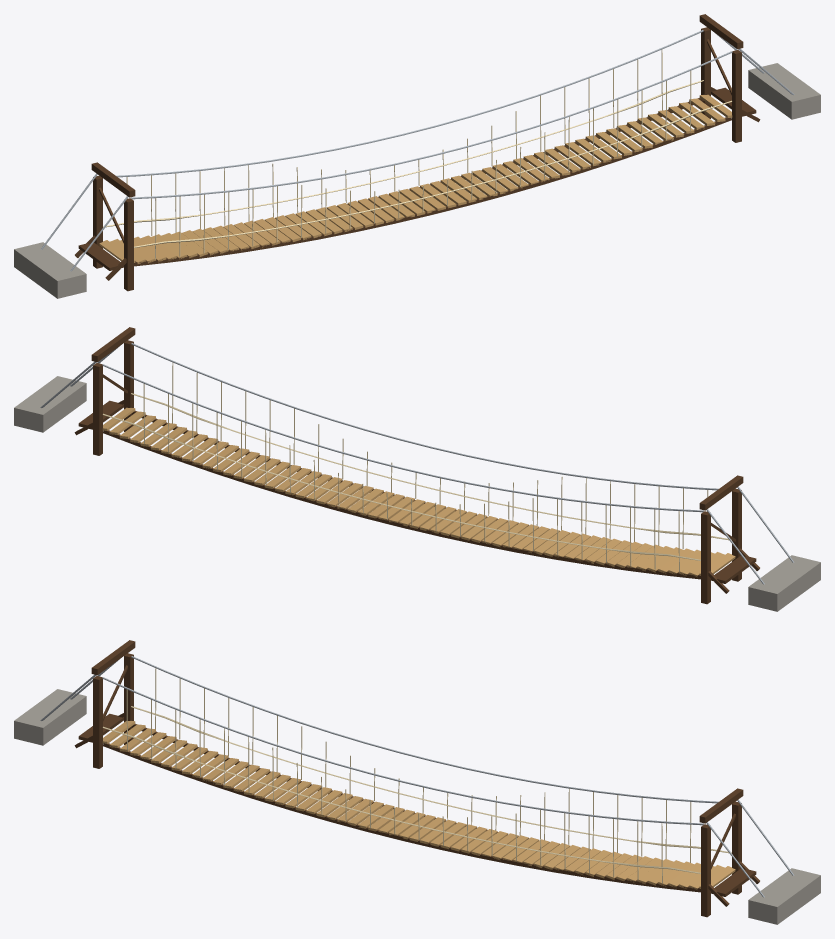
File: puente_reparado.glb
The picture shows the model from 3 angles, top to bottom: view 1: azimuth 30°, elevation 25°; view 2: azimuth 150°, elevation 25°; view 3: azimuth 330°, elevation 25°; orthographic projection.
Visible parts, largest first — view 1: puente; view 2: puente; view 3: puente.
Part boxes in pixels (x1,y1,x2,y2): puente: [14, 14, 820, 298]; puente: [14, 327, 820, 611]; puente: [14, 640, 820, 924].
Size of the model in its own units: 31.4 by 4.01 by 3.1.
